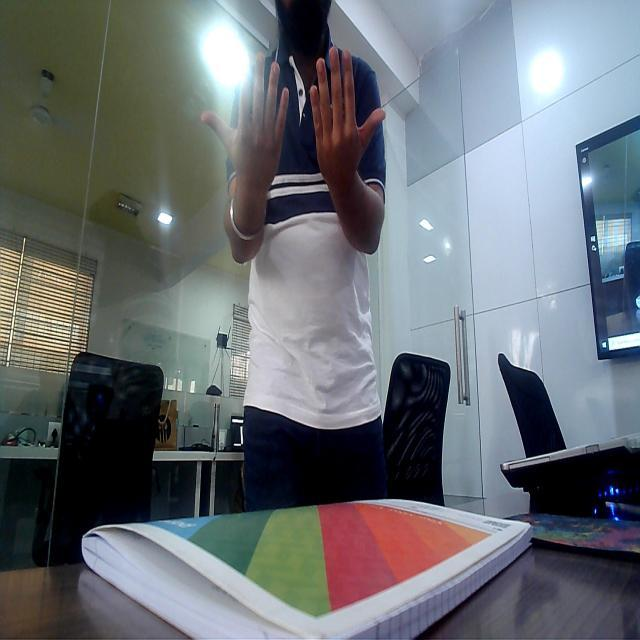without_gloves: (194, 58, 304, 190), (310, 46, 386, 208)
